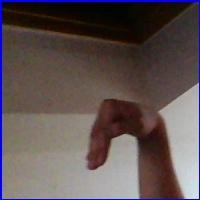A: (83, 91, 164, 179)
